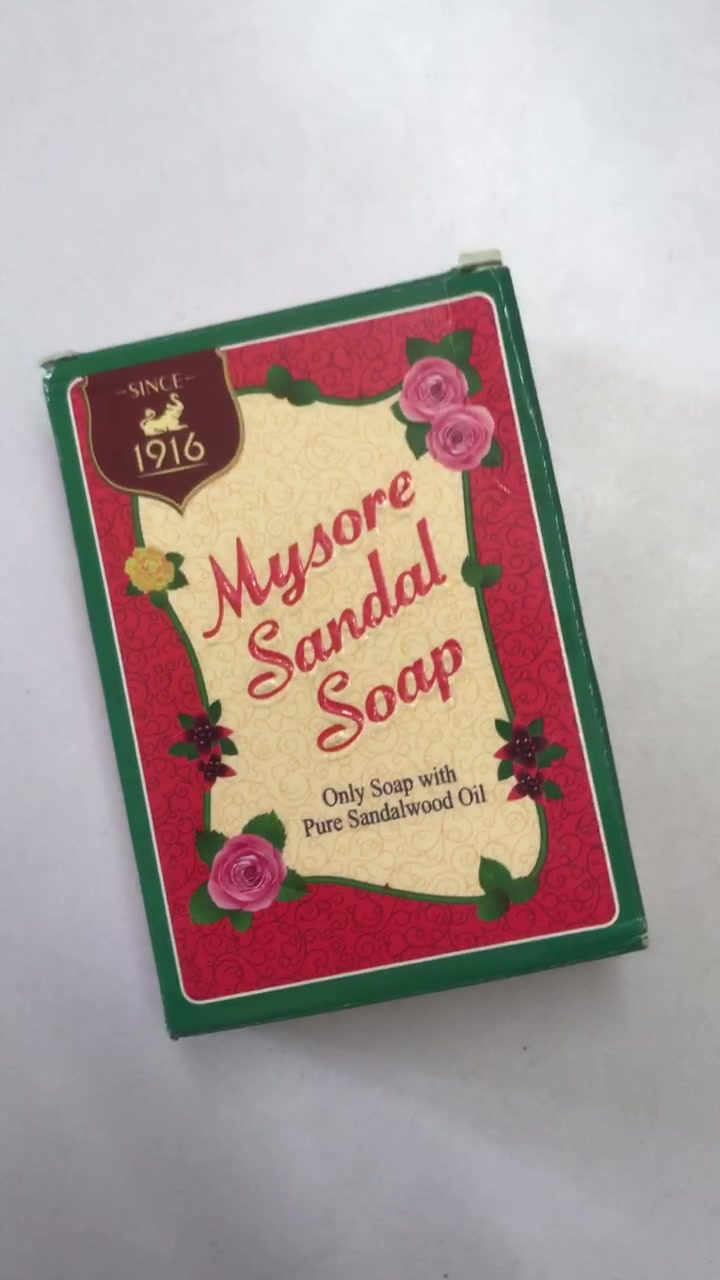mysore sandal soap: (49, 266, 649, 1049)
